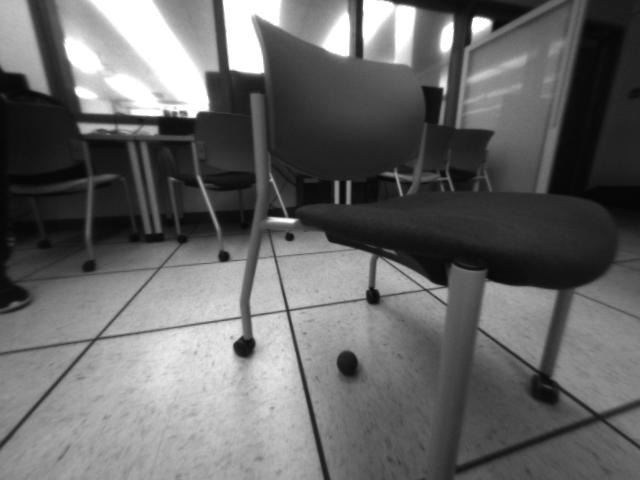dogtoy: (331, 344, 367, 383)
